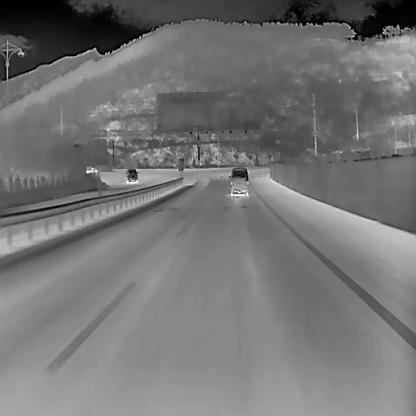car: (228, 167, 248, 196), (124, 168, 139, 184)
